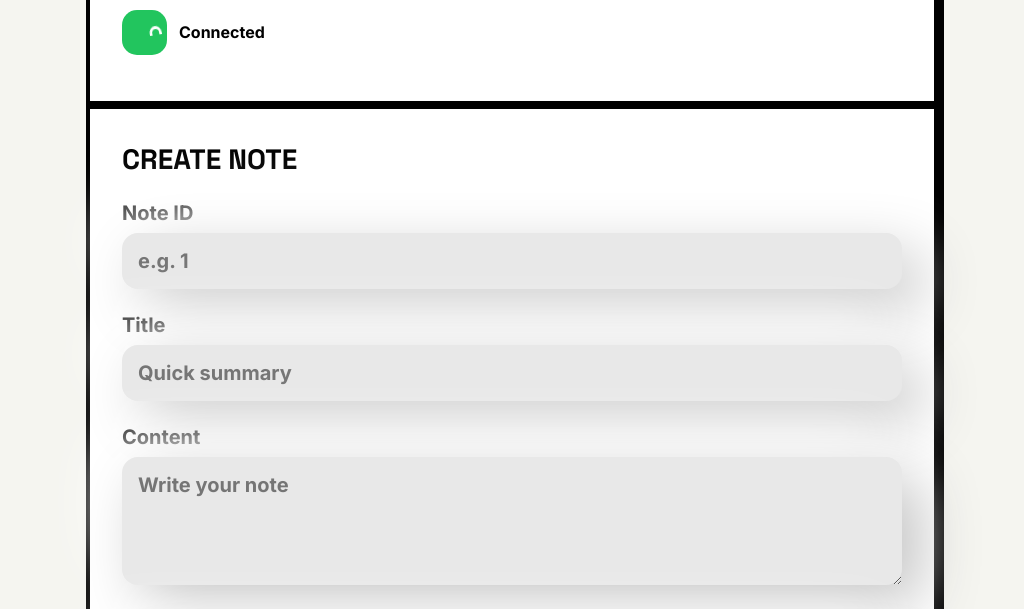
Test case: HomePage interactions › creates a note without ipfs when upload is unavailable
(page scrolled)
Type "7" into the field labelled "Note ID".
click(512, 261); type("7")  # box [122,233,902,289]
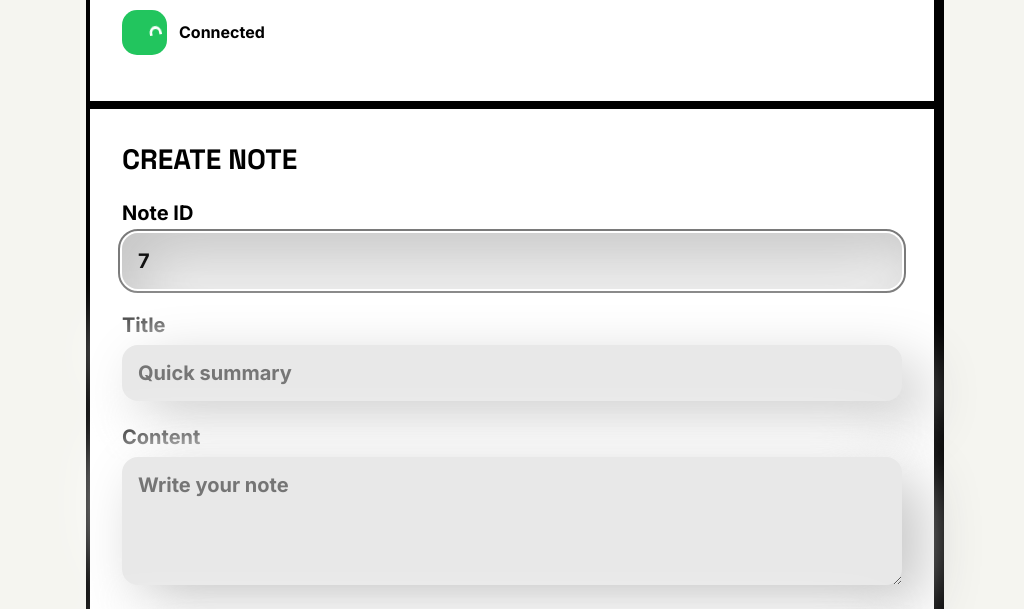
Type "Offline Ready" into the field labelled "Title".
click(512, 373); type("Offline Ready")  # box [122,345,902,401]
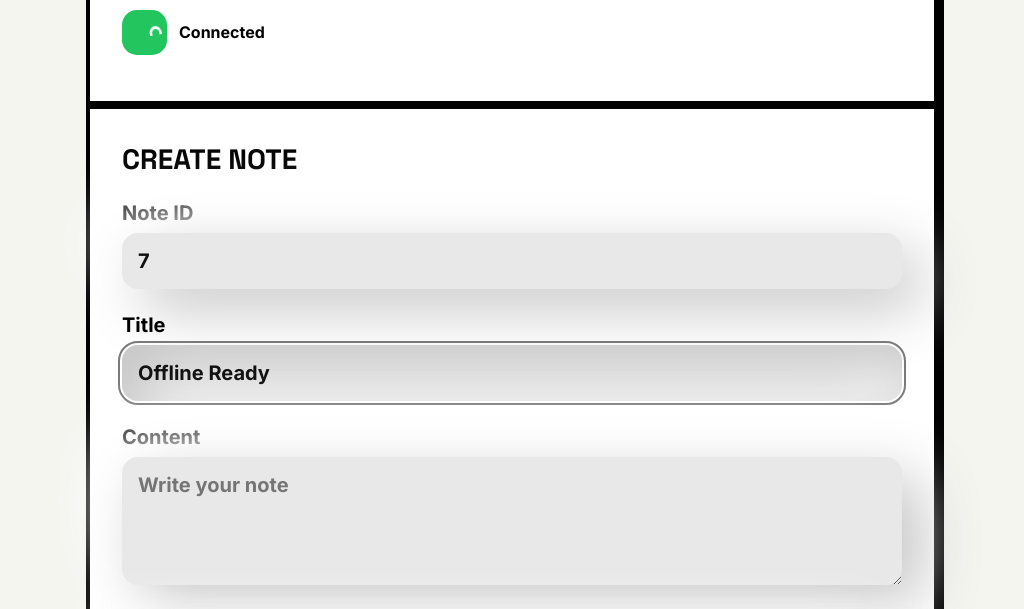
Type "Plaintext content for testnet users" into the text box labelled "Content".
click(512, 521); type("Plaintext content for testnet users")  # box [122,457,902,585]
(page scrolled)
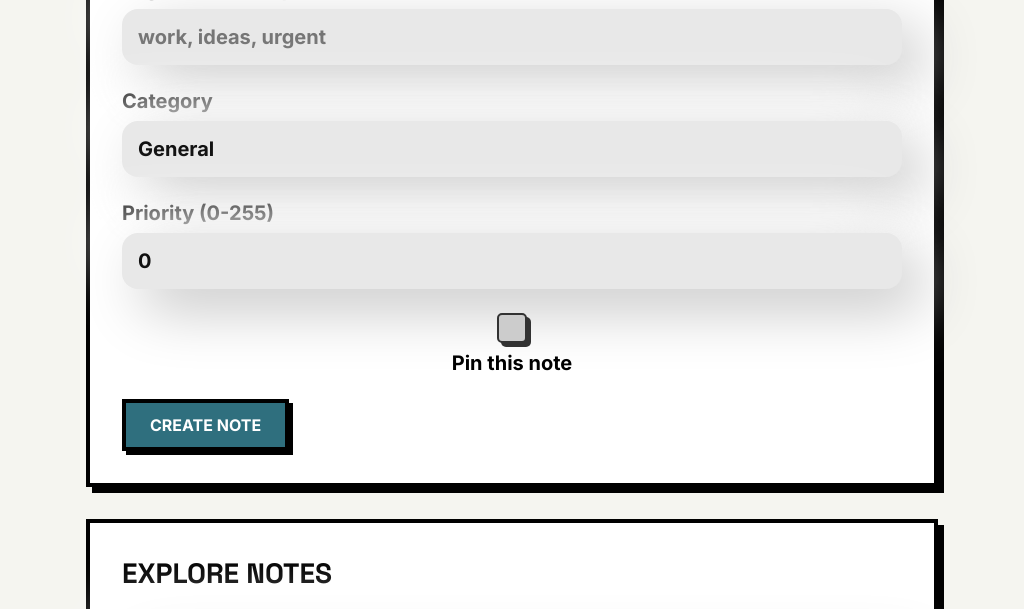
Type "1" into the field labelled "Priority (0-255)".
click(512, 261); type("1")  # box [122,233,902,289]
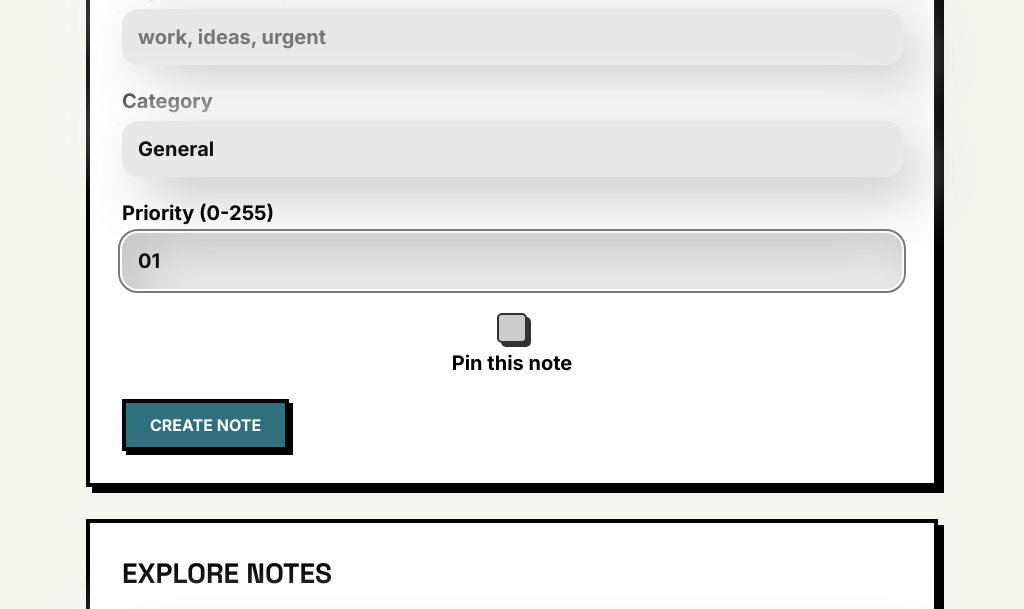
Click the button "Create Note".
click(206, 425)  # box [122,399,289,451]
(page scrolled)
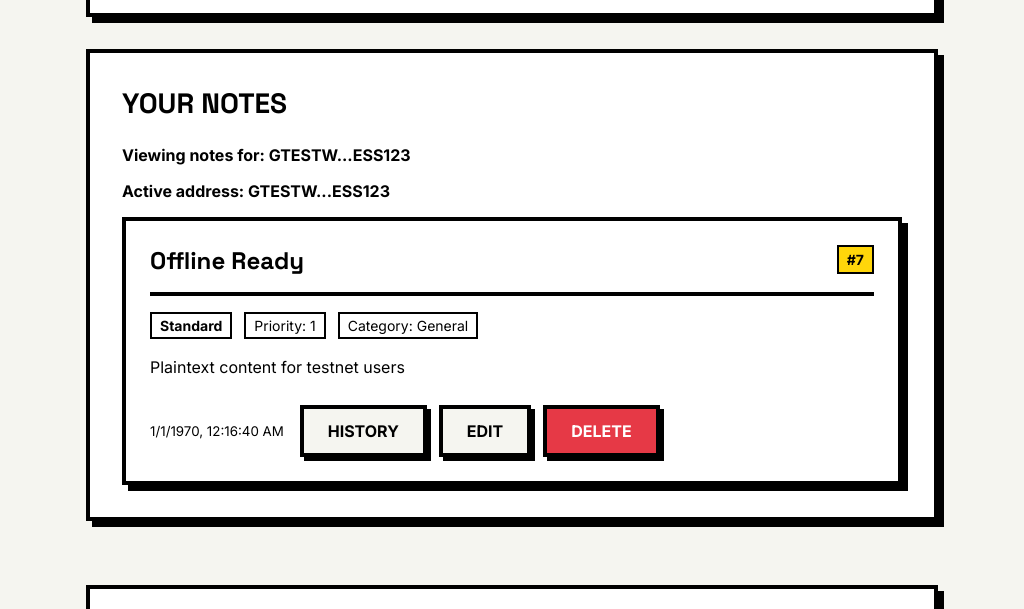
expect the heading "Offline Ready" is shown: met, box [150,245,304,276]
